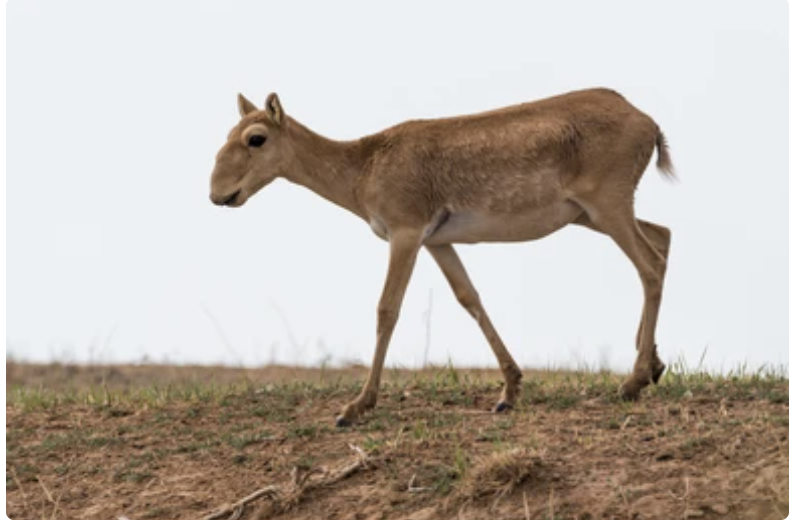saiga: (203, 81, 679, 410)
